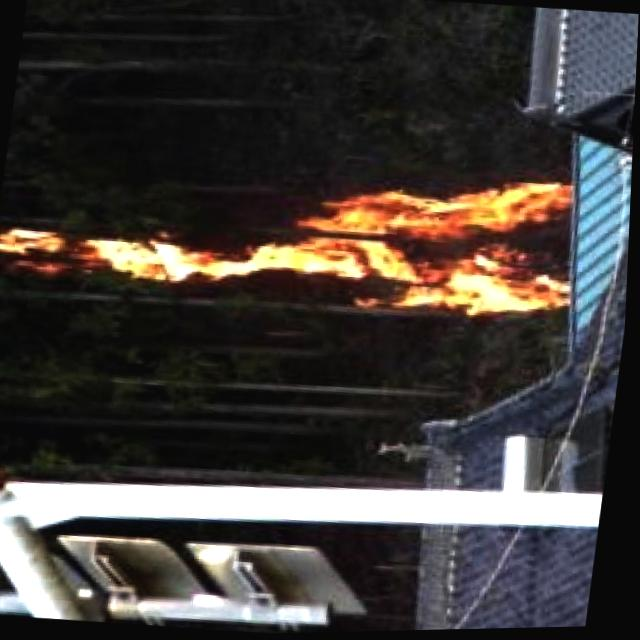helmet: (0, 135, 584, 337)
